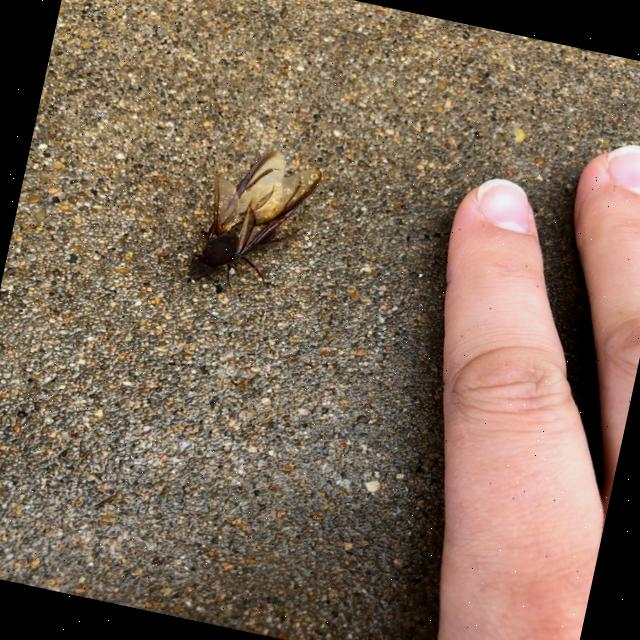Alive-Female-Alate: (168, 134, 324, 312)
